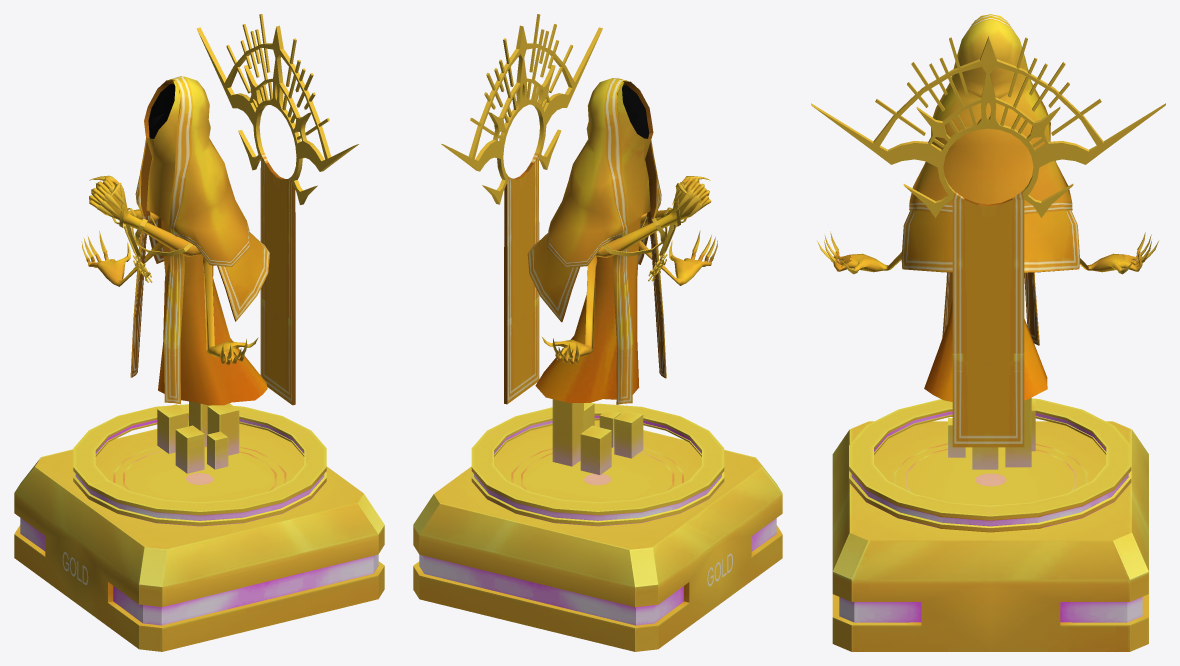
The model's file is my_trophy_hieronymus_city_gold.glb.
3 views of the same model, side by side, from view 1: azimuth 30°, elevation 25°; view 2: azimuth 150°, elevation 25°; view 3: azimuth 270°, elevation 25° (orthographic). The views are drawn at different scales.
Parts seen in each view (by area): view 1: my_trophy_hieronymus_city_gold; view 2: my_trophy_hieronymus_city_gold; view 3: my_trophy_hieronymus_city_gold.
Boxes of the visible parts, <box> form: my_trophy_hieronymus_city_gold: <box>14,14,384,651</box>; my_trophy_hieronymus_city_gold: <box>413,14,782,651</box>; my_trophy_hieronymus_city_gold: <box>811,14,1165,651</box>.
Size of the model in its own units: 0.00391 by 0.00804 by 0.00438.
3 materials, 3 textured.
